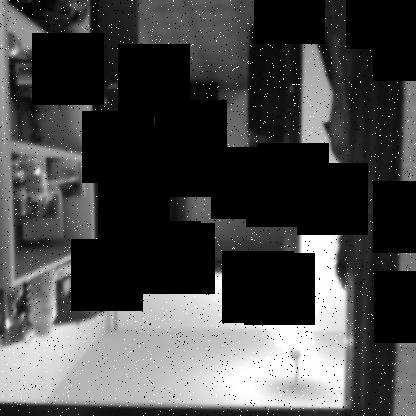Porte: (91, 1, 301, 303)
